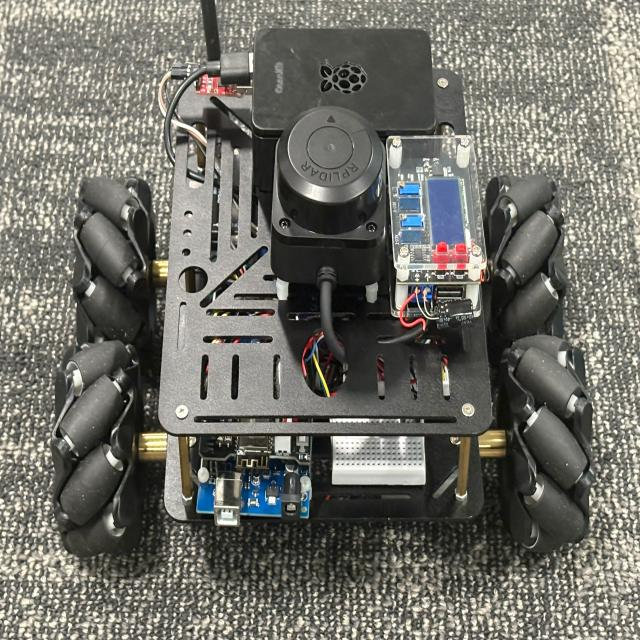ArduinoCar3: (54, 2, 597, 559)
